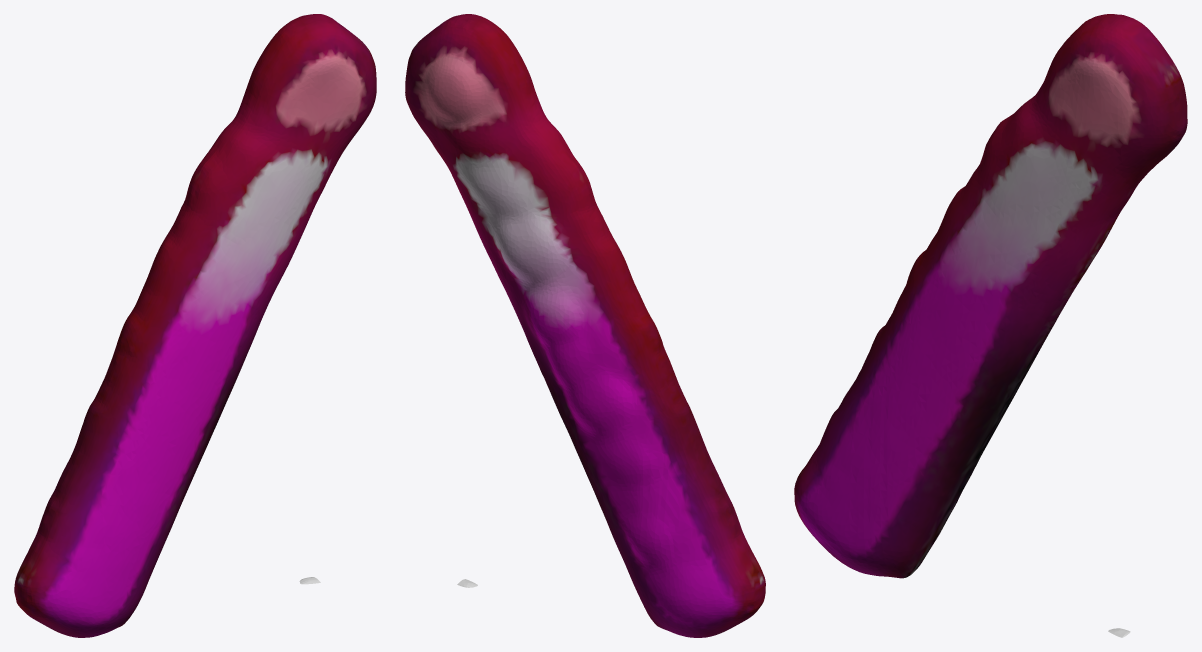
Rendered from vial_magenta.glb.
3 views of the same model, side by side, from view 1: azimuth 30°, elevation 25°; view 2: azimuth 150°, elevation 25°; view 3: azimuth 330°, elevation 25° (orthographic). The views are drawn at different scales.
Visible parts, largest first — view 1: geometry_0; view 2: geometry_0; view 3: geometry_0.
Boxes of the visible parts, left/top/right/bottom form: geometry_0: left=14, top=14, right=376, bottom=637; geometry_0: left=405, top=14, right=765, bottom=637; geometry_0: left=794, top=14, right=1187, bottom=637.
Size of the model in its own units: 0.3438 by 0.5235 by 0.0734.
